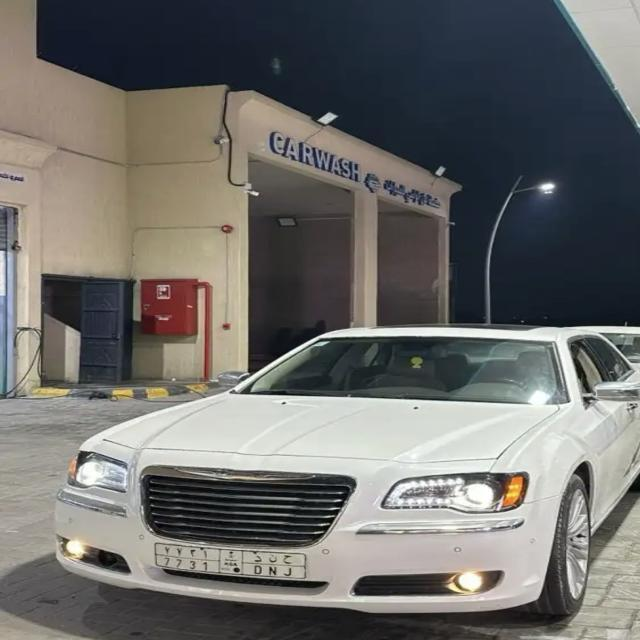license_plate: (154, 542, 308, 581)
